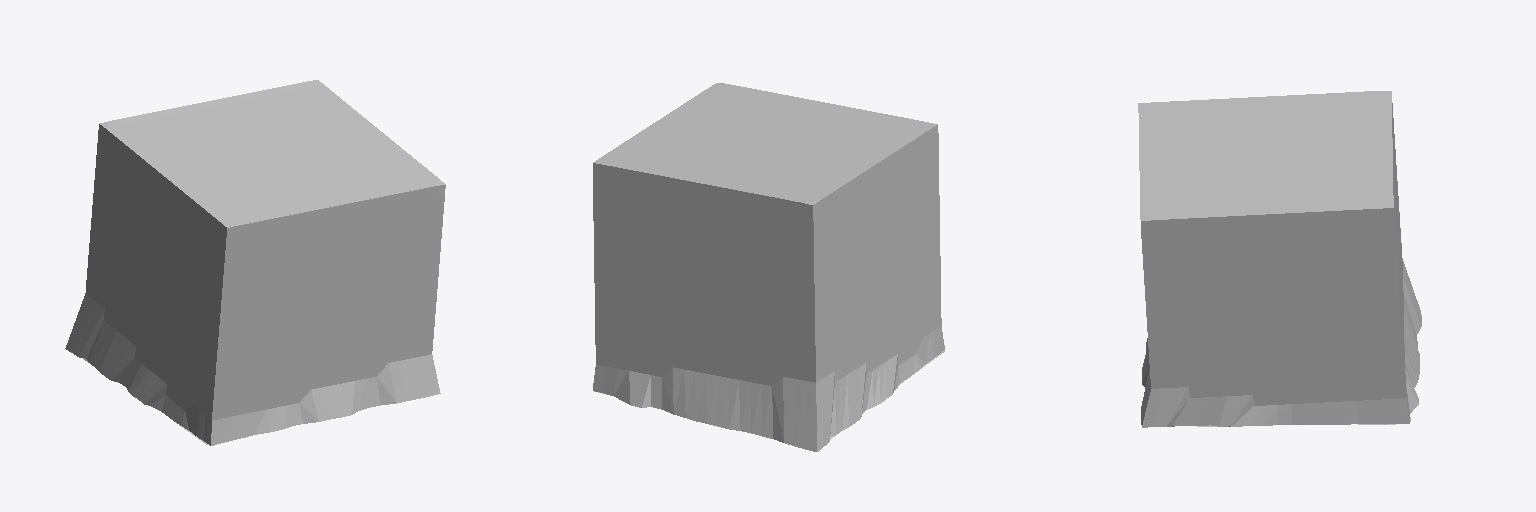
File: mod0029.obj
3 views of the same model, side by side, from view 1: azimuth 30°, elevation 25°; view 2: azimuth 150°, elevation 25°; view 3: azimuth 270°, elevation 25° (orthographic).
Parts seen in each view (by area): view 1: Box001; view 2: Box001; view 3: Box001.
Part boxes in pixels (bbox=[...]): Box001: bbox=[65, 80, 445, 445]; Box001: bbox=[593, 83, 944, 451]; Box001: bbox=[1138, 91, 1421, 427].
Size of the model in its own units: 0.5907 by 0.5455 by 0.6029.